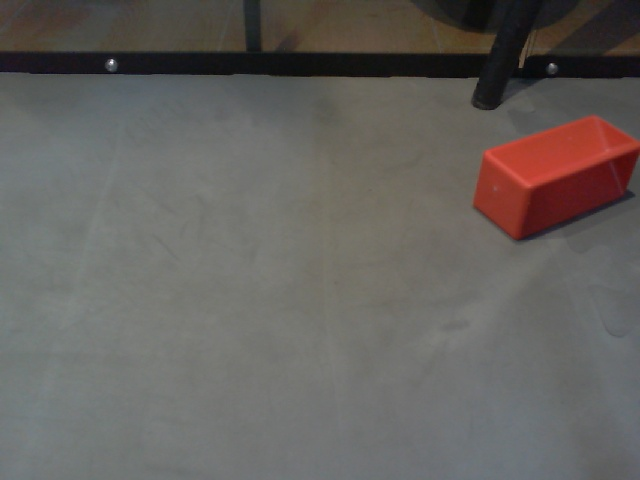RedSample: (474, 114, 640, 244)
